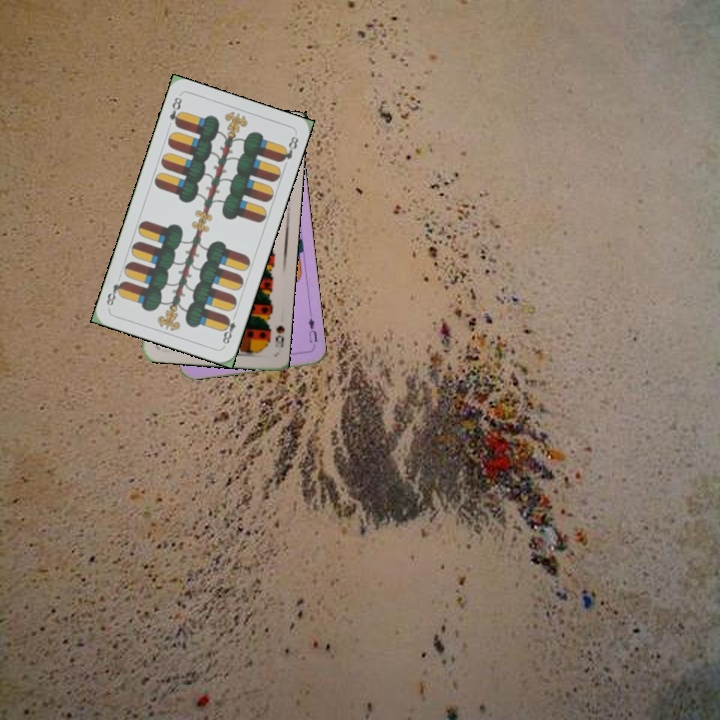E8: (218, 309, 239, 349), (165, 93, 185, 129)
EU: (304, 314, 320, 346)
S8: (271, 321, 287, 350)
